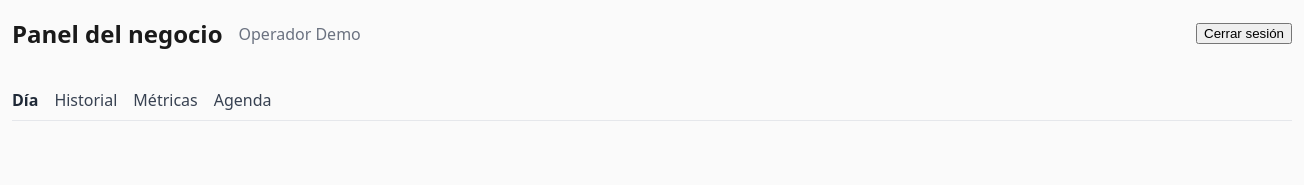
Test: Panel — shell del negocio (auth-gated, VNG-S7) › muestra navegación + operador y cierra sesión (RB-VNG-05)
Expected: the text "Operador Demo" is shown, [238,22,361,46]
Expected: the link "Día" is shown, [12,88,38,112]
Click the button "Cerrar sesión". click: {"x": 1244, "y": 34}
box: [1196,23,1292,44]
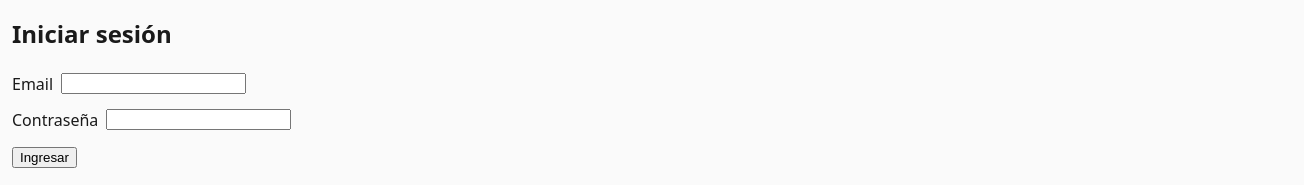
Now the heading "Iniciar sesión" is shown, box [12,17,172,50]
